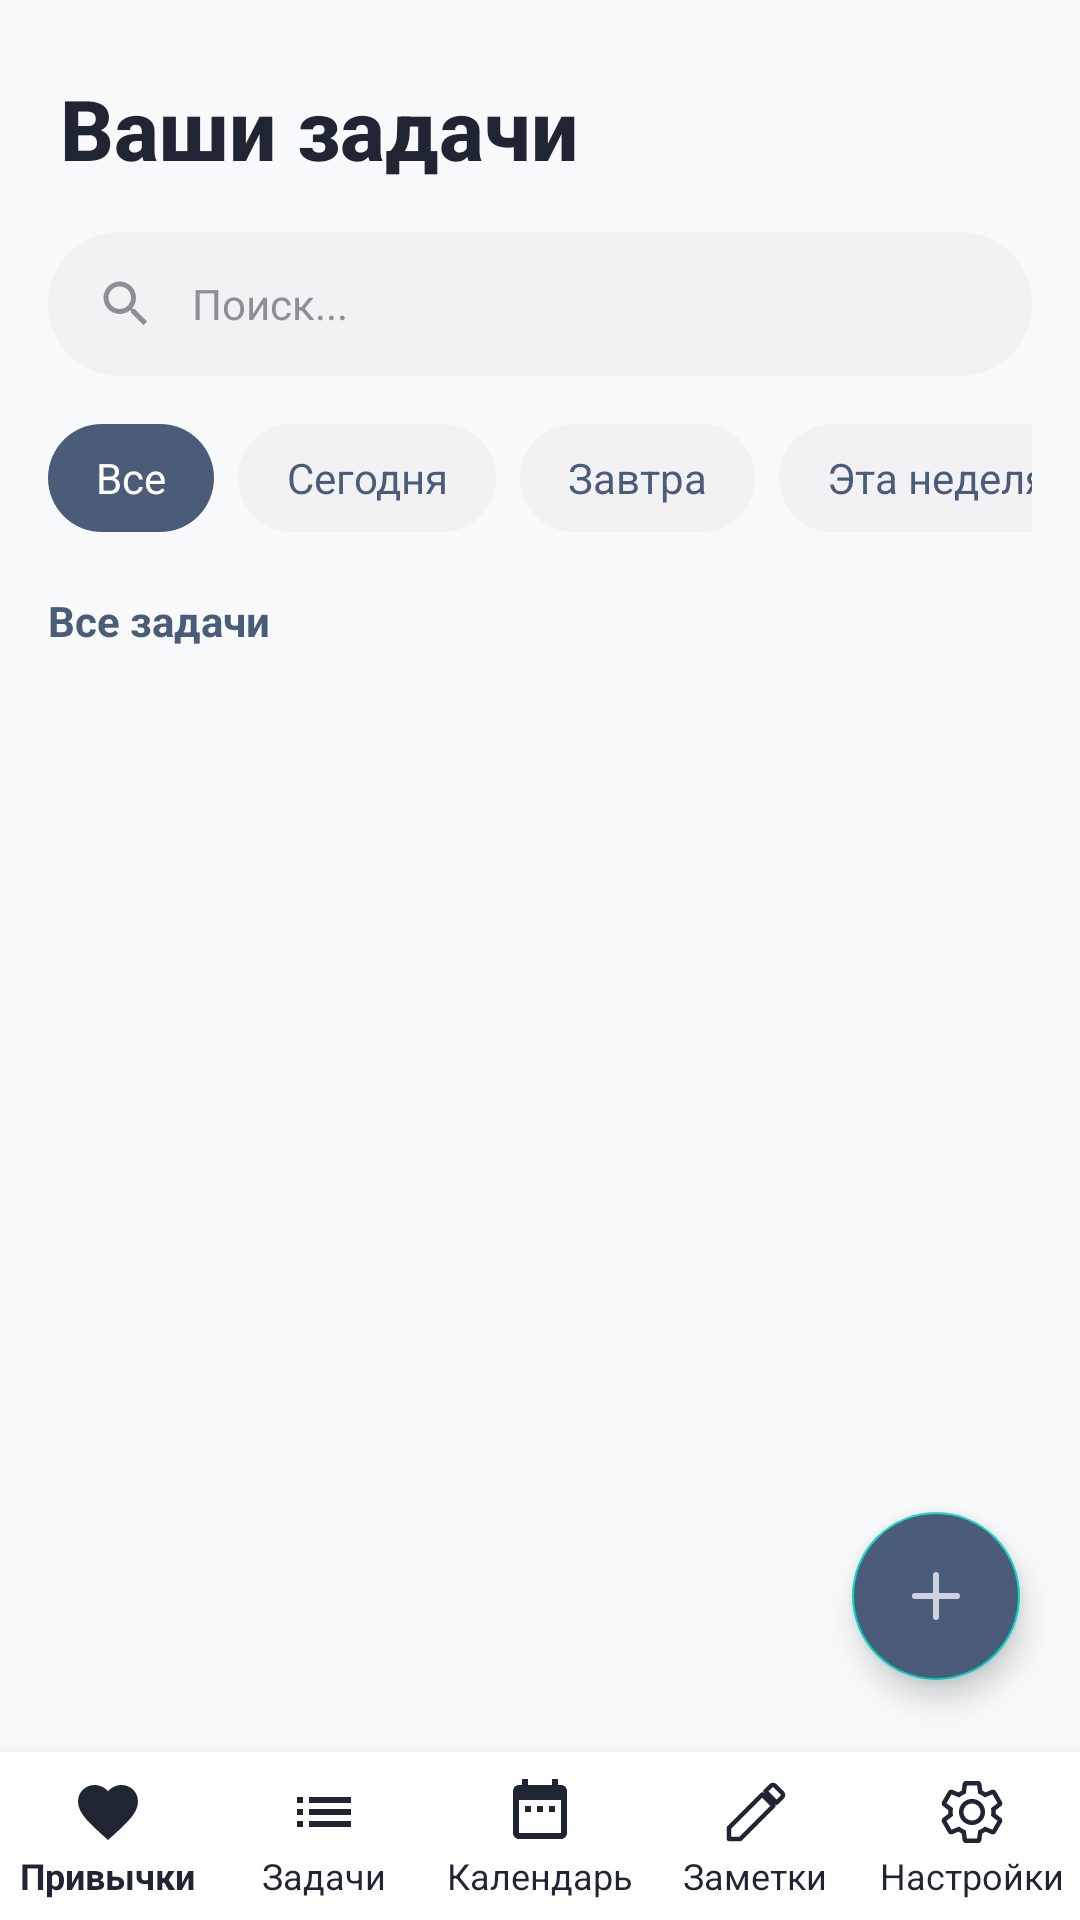

Where icons sit on this 1080*1920 app screen, as box=[x1, y1, x2, y2]:
add: box=[852, 1512, 1020, 1680]
search: box=[103, 281, 147, 325]
